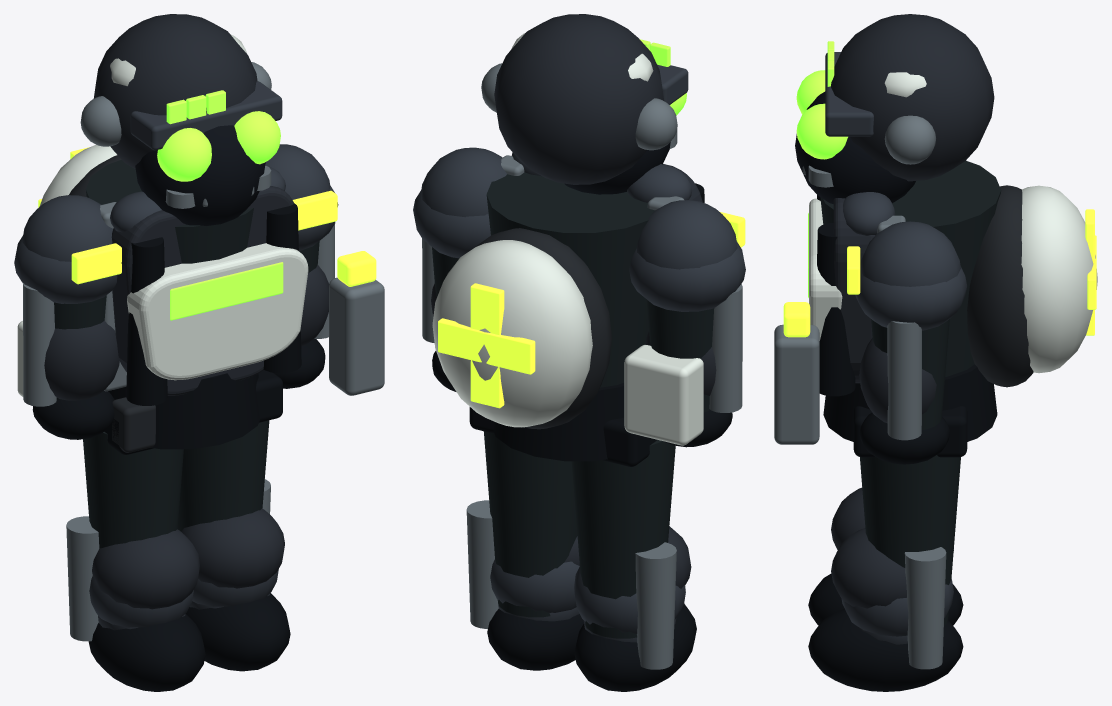
Rendered from medic_l03.glb.
3 renders of one model, left to right at view 1: azimuth 30°, elevation 25°; view 2: azimuth 150°, elevation 25°; view 3: azimuth 270°, elevation 25°, orthographic. The views are drawn at different scales.
Parts seen in each view (by area): view 1: trouser (×2), reinforced_vest, rounded_helmet, shaped_knee_guard (×2), rounded_boot (×2), enclosed_mask, shoulder_joint (×2), curved_forearm_guard (×2), waist_flex, aid_injector, contoured_vest, vest_tether (×2) (+20 smaller); view 2: trouser (×2), rounded_helmet, medical_pack, body, shoulder_joint (×2), rounded_boot (×2), shin_frame (×2), shoulder_plate (×2), triage_satchel, knee_plate (×2), shaped_field_pack, waist_flex (+13 smaller); view 3: rounded_helmet, medical_pack, shaped_field_pack, trouser, rounded_boot (×2), body, shaped_knee_guard (×2), aid_injector, shoulder_joint, shin_frame, shoulder_plate, forearm_seam (+19 smaller).
Part boxes in pixels (left/top/right/bottom): trouser (×2): left=83, top=420, right=269, bottom=548; reinforced_vest: left=127, top=243, right=308, bottom=380; rounded_helmet: left=93, top=14, right=257, bottom=168; shaped_knee_guard (×2): left=92, top=508, right=284, bottom=609; rounded_boot (×2): left=88, top=593, right=290, bottom=691; enclosed_mask: left=135, top=125, right=265, bottom=225; shoulder_joint (×2): left=22, top=144, right=330, bottom=261; curved_forearm_guard (×2): left=44, top=265, right=329, bottom=400; waist_flex: left=108, top=373, right=259, bottom=449; aid_injector: left=329, top=277, right=384, bottom=395; contoured_vest: left=111, top=186, right=293, bottom=395; vest_tether (×2): left=126, top=203, right=301, bottom=405; trouser (×2): left=483, top=431, right=675, bottom=638; rounded_helmet: left=494, top=14, right=664, bottom=184; medical_pack: left=432, top=240, right=592, bottom=427; body: left=486, top=172, right=654, bottom=387; shoulder_joint (×2): left=421, top=147, right=737, bottom=269; rounded_boot (×2): left=487, top=603, right=696, bottom=691; shin_frame (×2): left=466, top=500, right=676, bottom=669; shoulder_plate (×2): left=413, top=190, right=745, bottom=311; triage_satchel: left=624, top=345, right=703, bottom=445; knee_plate (×2): left=490, top=559, right=685, bottom=633; shaped_field_pack: left=475, top=228, right=611, bottom=429; waist_flex: left=493, top=383, right=624, bottom=461; rounded_helmet: left=830, top=14, right=994, bottom=181; medical_pack: left=1021, top=185, right=1097, bottom=373; shaped_field_pack: left=967, top=185, right=1033, bottom=387; trouser: left=860, top=455, right=960, bottom=625; rounded_boot (×2): left=808, top=574, right=963, bottom=691; body: left=820, top=160, right=1001, bottom=376; shaped_knee_guard (×2): left=831, top=487, right=906, bottom=608; aid_injector: left=774, top=324, right=819, bottom=444; shoulder_joint: left=860, top=221, right=960, bottom=286; shin_frame: left=904, top=547, right=946, bottom=669; shoulder_plate: left=855, top=266, right=966, bottom=330; forearm_seam: left=887, top=321, right=921, bottom=440.
Bounding box in the file's own units: 0.95 × 1.88 × 0.855.
